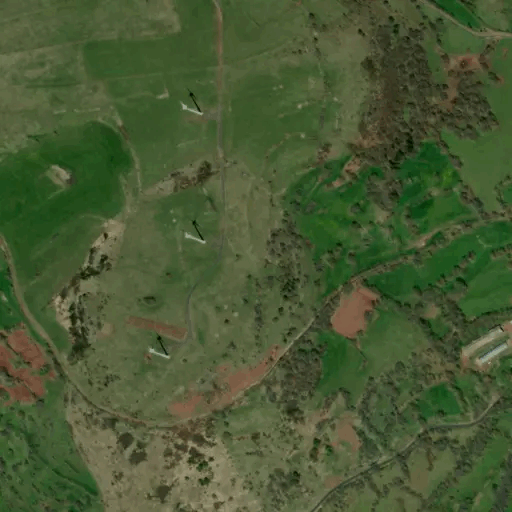wt: (132, 326, 179, 364), (170, 215, 212, 247), (168, 85, 208, 117)
